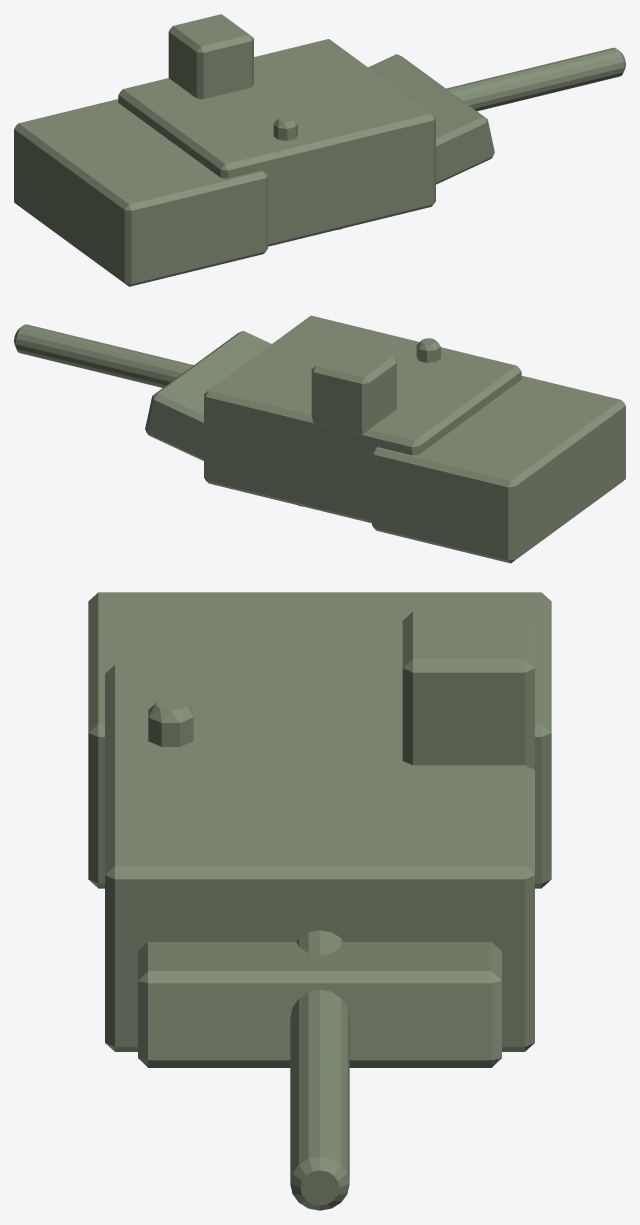
File: tank_turret_fr.glb
3 renders of one model, top to bottom at view 1: azimuth 30°, elevation 25°; view 2: azimuth 150°, elevation 25°; view 3: azimuth 270°, elevation 25°, orthographic. The views are drawn at different scales.
Visible parts, largest first — view 1: tank_turret_fr; view 2: tank_turret_fr; view 3: tank_turret_fr.
Part boxes in pixels (box(x1,y1,x2,y2)): tank_turret_fr: box(14, 14, 625, 286); tank_turret_fr: box(14, 315, 625, 563); tank_turret_fr: box(88, 592, 551, 1210).
Size of the model in its own units: 3.85 by 0.98 by 1.4.
